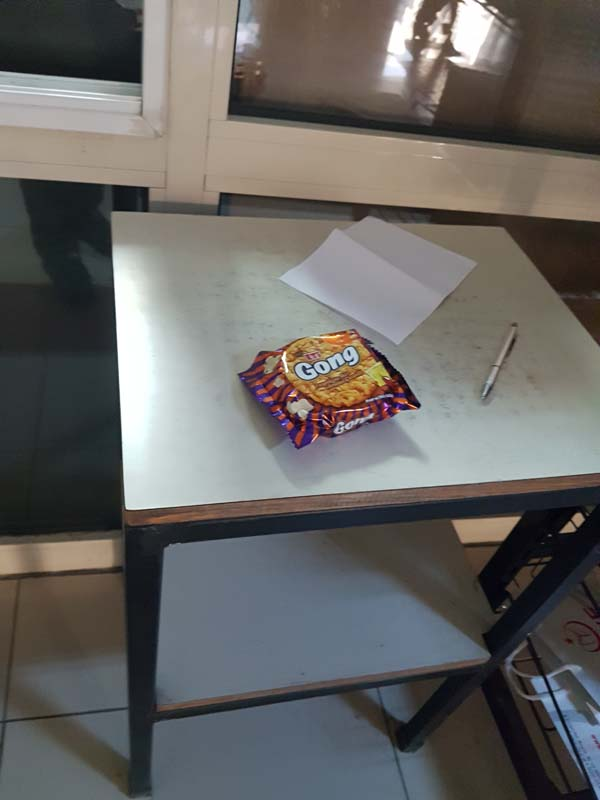etigong: (233, 318, 425, 450)
